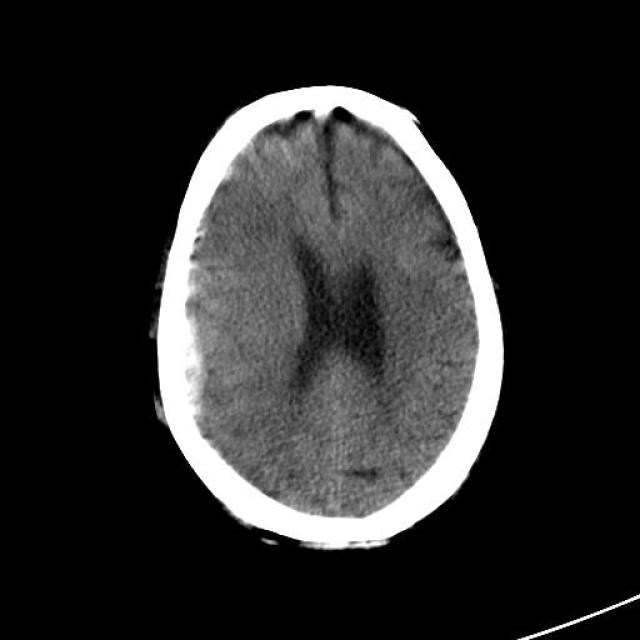Subdural: (132, 141, 270, 505)
